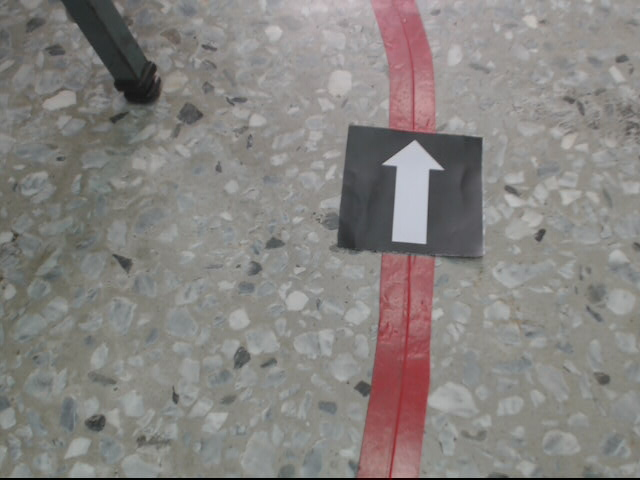straight: (339, 124, 488, 259)
